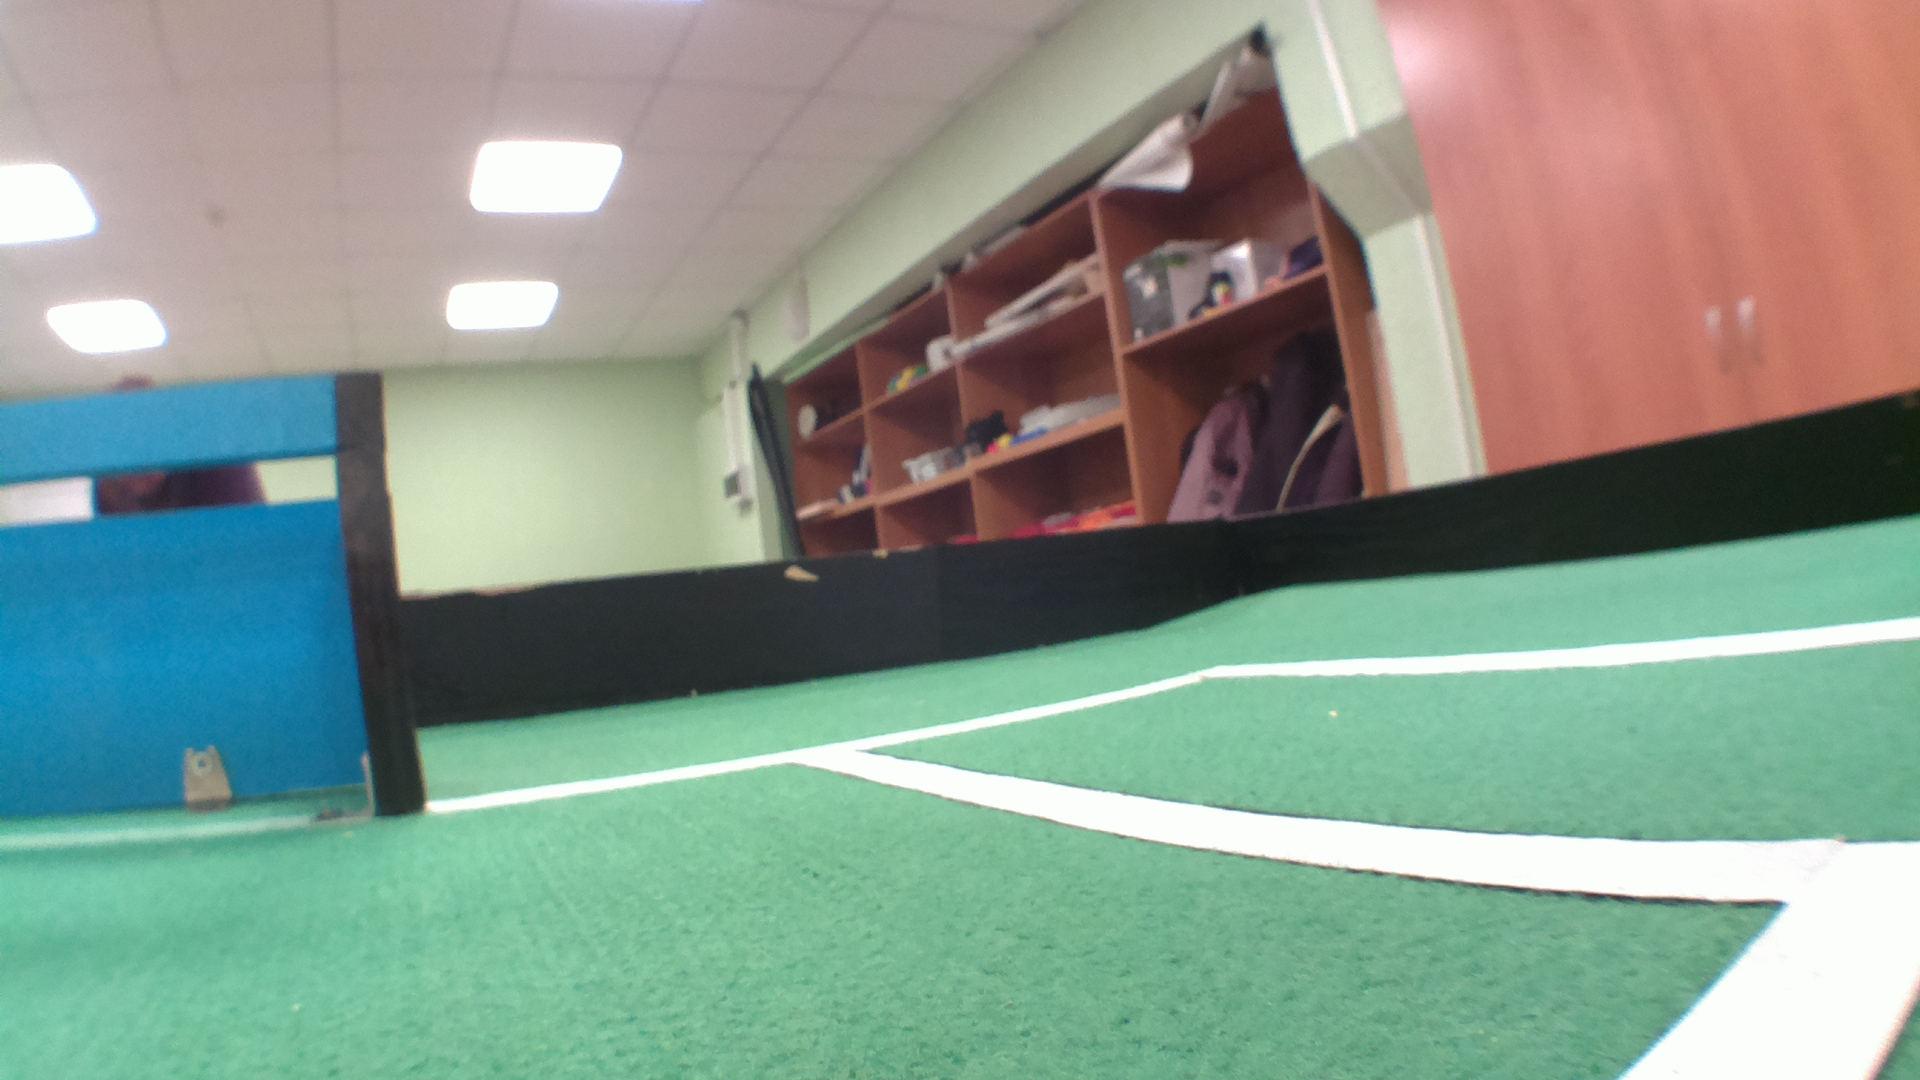BlueGoal: (1, 376, 371, 820)
